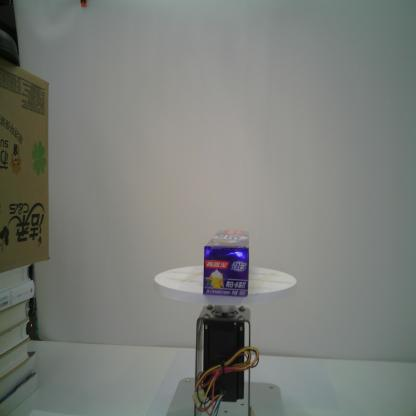Personal Hygiene: (202, 227, 250, 297)
